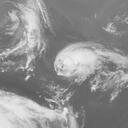cyclone: (54, 40, 118, 84)
